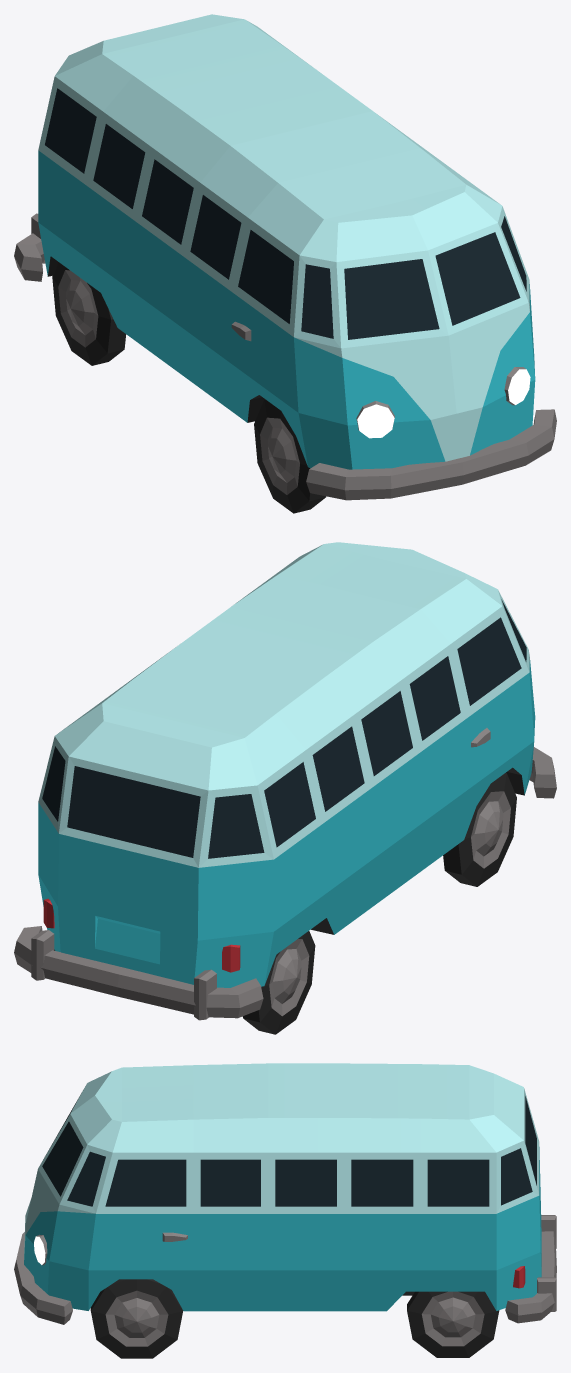
Rendered from car-hippie-van.glb.
3 renders of one model, top to bottom at view 1: azimuth 30°, elevation 25°; view 2: azimuth 150°, elevation 25°; view 3: azimuth 270°, elevation 25°, orthographic. The views are drawn at different scales.
Visible parts, largest first — view 1: car-hippie-van-base, car-hippie-van-wheel_BR, car-hippie-van-wheel_FR; view 2: car-hippie-van-base, car-hippie-van-wheel_FR, car-hippie-van-wheel_BR; view 3: car-hippie-van-base, car-hippie-van-wheel_FL, car-hippie-van-wheel_BL.
Part boxes in pixels (bbox=[...]): car-hippie-van-base: bbox=[14, 14, 556, 500]; car-hippie-van-wheel_BR: bbox=[52, 262, 126, 365]; car-hippie-van-wheel_FR: bbox=[254, 399, 326, 513]; car-hippie-van-base: bbox=[14, 542, 556, 1020]; car-hippie-van-wheel_FR: bbox=[443, 773, 516, 886]; car-hippie-van-wheel_BR: bbox=[242, 931, 315, 1034]; car-hippie-van-base: bbox=[14, 1063, 556, 1324]; car-hippie-van-wheel_FL: bbox=[90, 1279, 183, 1358]; car-hippie-van-wheel_BL: bbox=[407, 1291, 499, 1357].
Bounding box in the file's own units: 1.83 × 2.03 × 4.38.
1 material, 1 textured.
